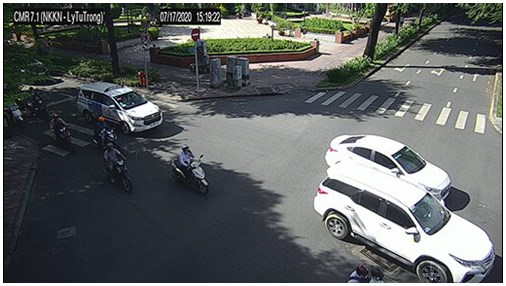xe_hoi: (314, 160, 496, 282), (325, 135, 451, 200)
xe_may: (171, 143, 211, 195), (103, 143, 132, 192), (49, 113, 74, 152), (93, 116, 119, 149), (348, 264, 384, 283), (6, 103, 26, 127), (29, 88, 47, 113)
xe_taxi: (77, 81, 164, 134)
